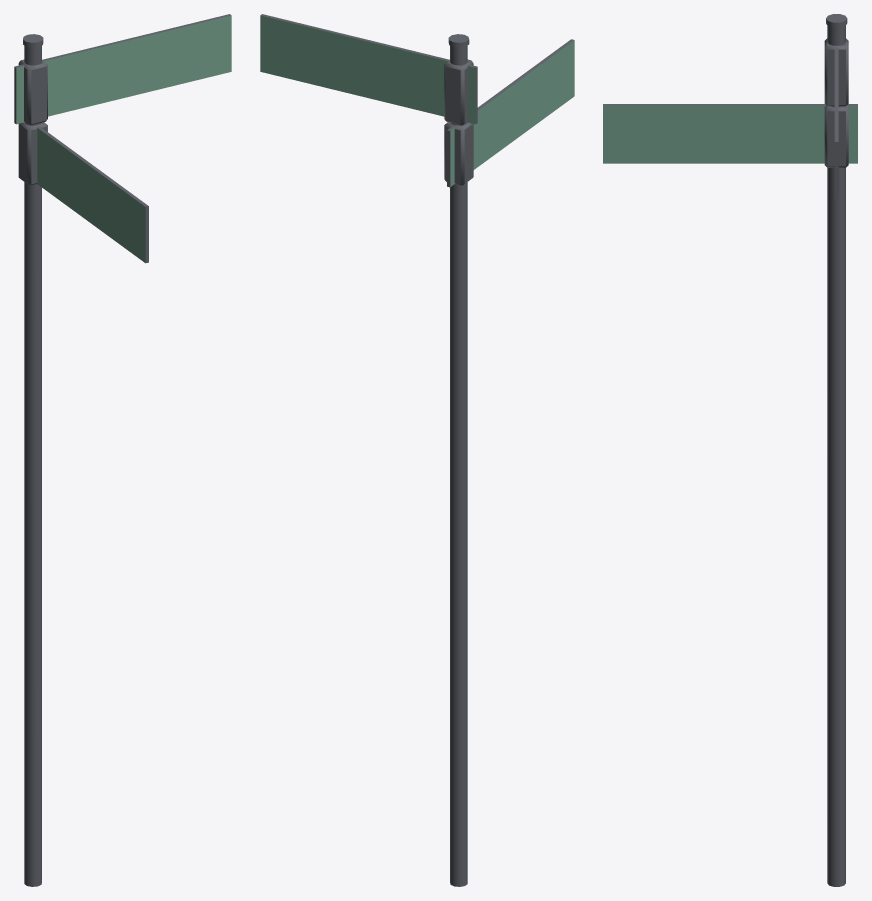
Rendered from StreetSign_Post.fbx.
The picture shows the model from 3 angles, left to right: view 1: azimuth 30°, elevation 25°; view 2: azimuth 150°, elevation 25°; view 3: azimuth 270°, elevation 25°; orthographic projection. The views are drawn at different scales.
Visible parts, largest first — view 1: StreetSign_Post; view 2: StreetSign_Post; view 3: StreetSign_Post.
Boxes of the visible parts, x1,y1,x2,y2 form: StreetSign_Post: (14, 14, 231, 886); StreetSign_Post: (260, 14, 574, 886); StreetSign_Post: (603, 14, 857, 886).
Size of the model in its own units: 0.9 by 3.37 by 0.9.
